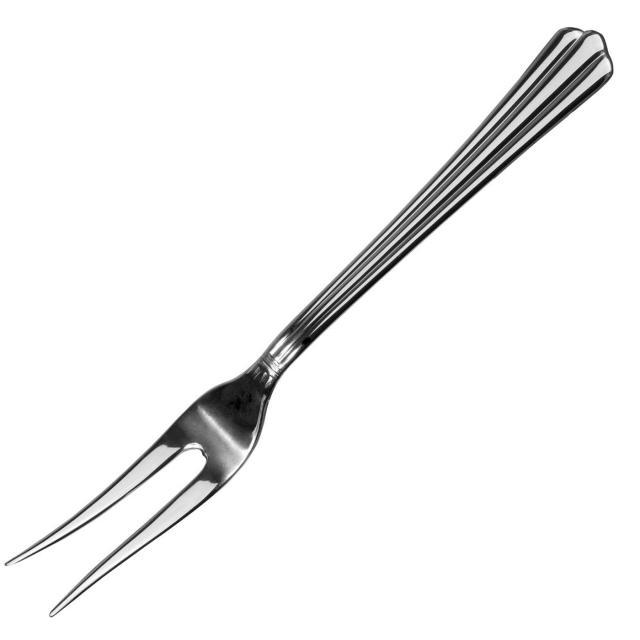plastic utensil: (8, 28, 612, 614)
